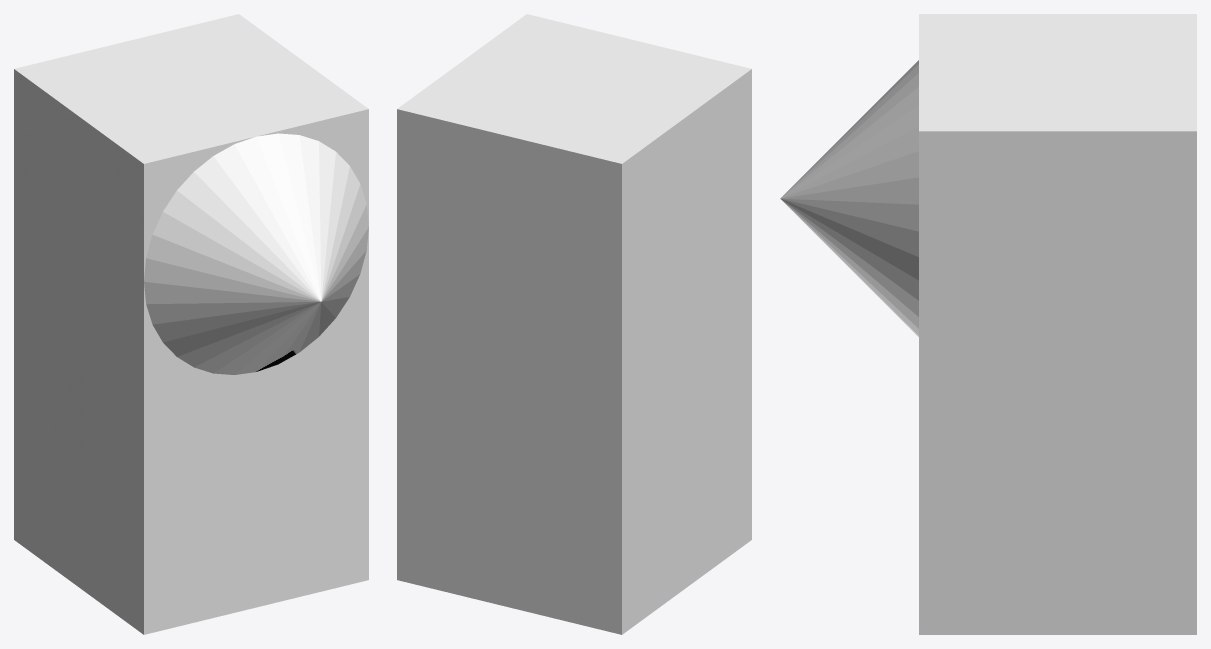
Rendered from player.obj.
The picture shows the model from 3 angles, left to right: view 1: azimuth 30°, elevation 25°; view 2: azimuth 150°, elevation 25°; view 3: azimuth 270°, elevation 25°; orthographic projection. The views are drawn at different scales.
Visible parts, largest first — view 1: 円錐; view 2: 円錐; view 3: 円錐.
Boxes of the visible parts, <box> form: 円錐: <box>14,14,368,634</box>; 円錐: <box>397,14,751,634</box>; 円錐: <box>780,14,1196,634</box>.
Bounding box in the file's own units: 2 × 4 × 3.
